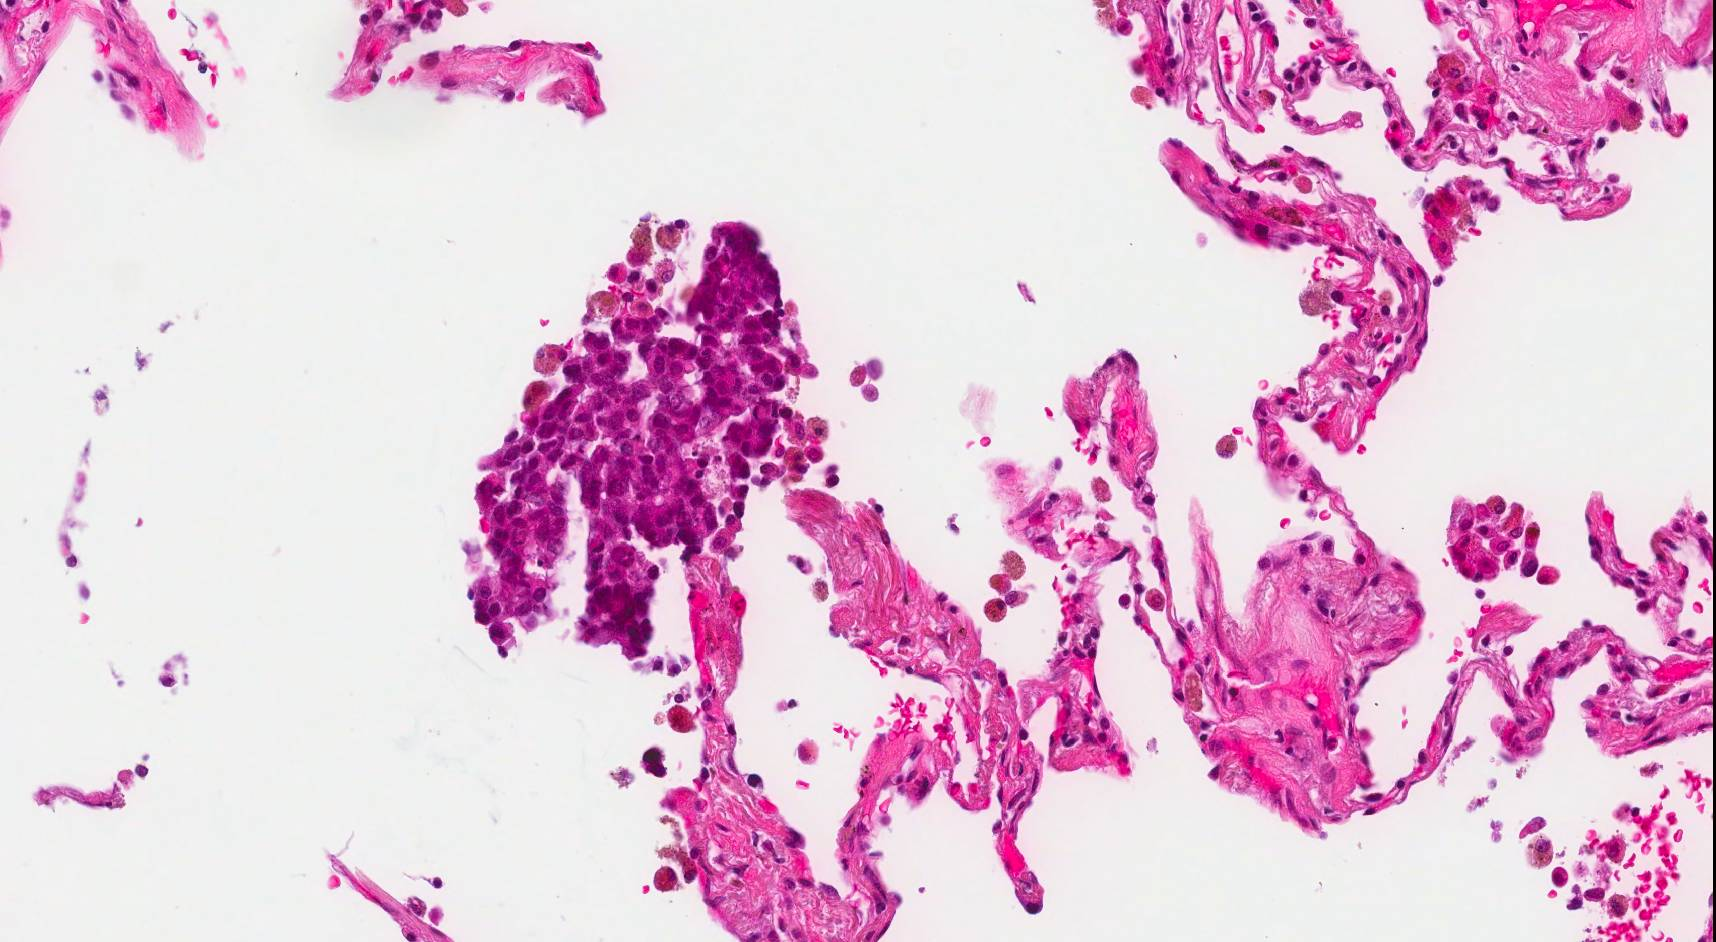stas: (462, 218, 796, 656)
